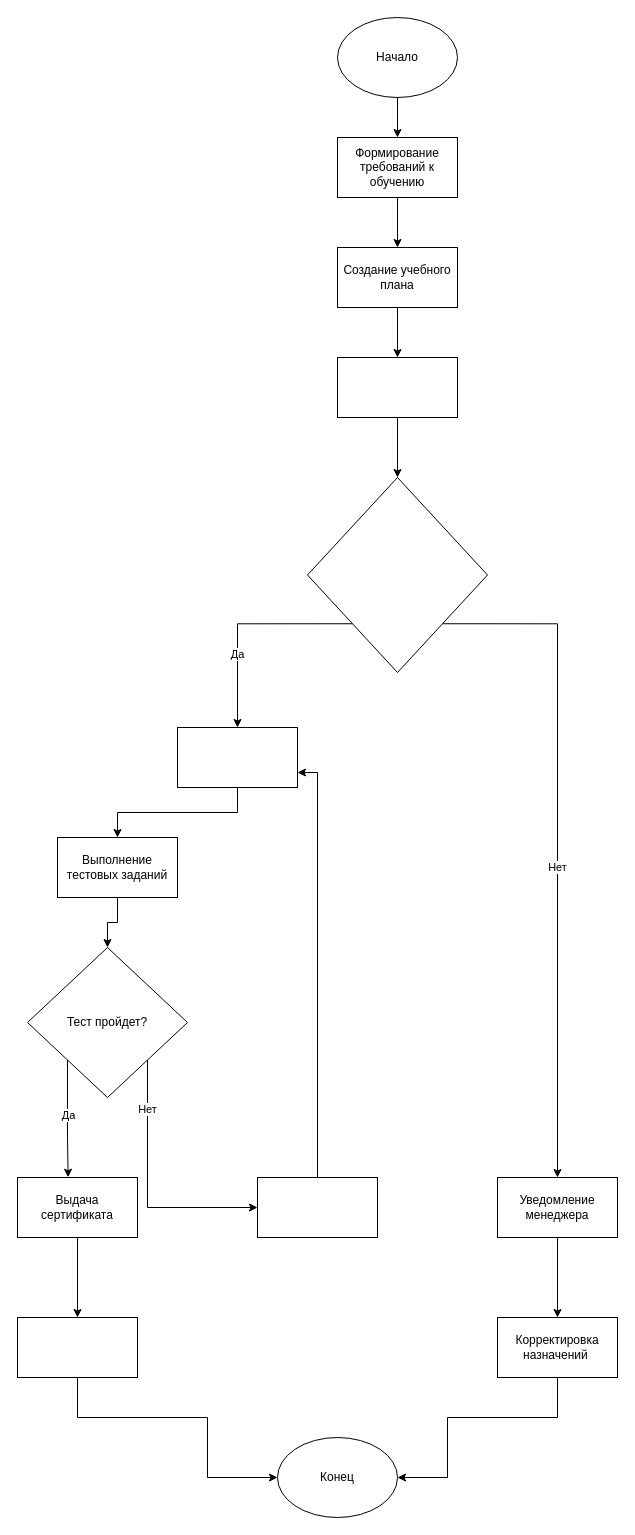
The diagram is 635 pixels wide and 1535 high, and some of its shapes have lost their labels. The shapes that lost their labels are listed below. From the top down, each one's centre as x and y in pixels, then its label:
At point 397,387: "Назначение курсов сотрудникам".
At point 397,574: "Сотрудник проходит курс".
At point 237,757: "Изучение материалов".
At point 317,1207: "Повторное обучение".
At point 77,1347: "Обновление базы данных".
